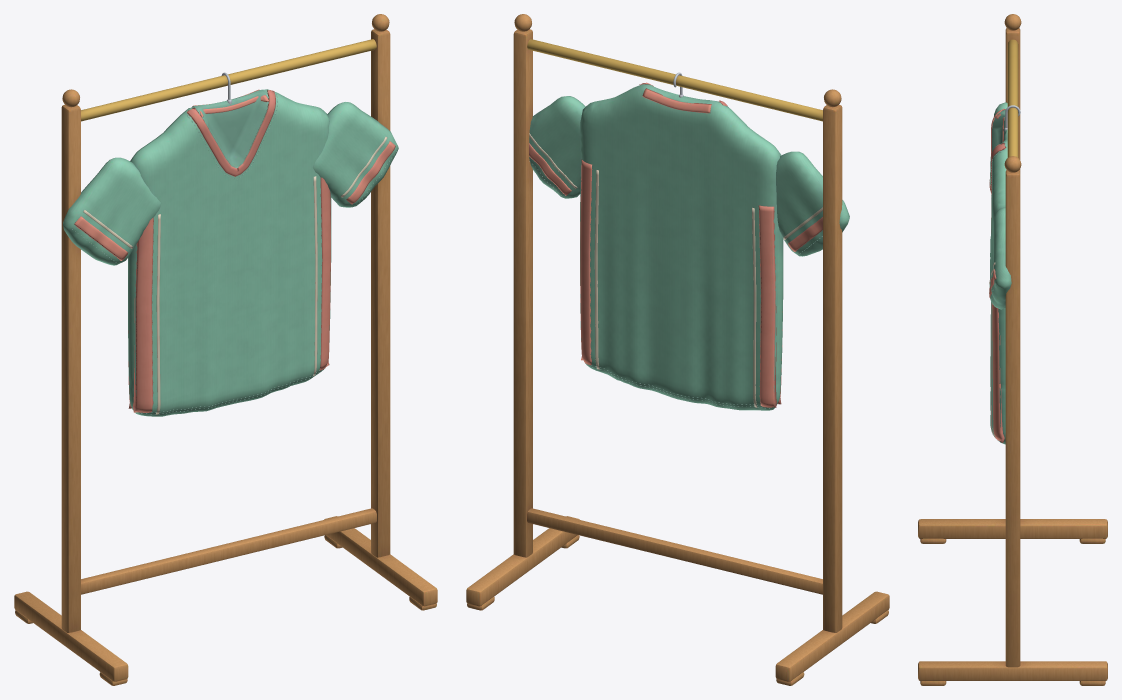
File: sports-jersey.glb
3 renders of one model, left to right at view 1: azimuth 30°, elevation 25°; view 2: azimuth 150°, elevation 25°; view 3: azimuth 270°, elevation 25°, orthographic. The views are drawn at different scales.
Parts seen in each view (by area): view 1: sports-jersey_body; view 2: sports-jersey_body; view 3: sports-jersey_body.
Boxes of the visible parts, left/top/right/bottom form: sports-jersey_body: left=14, top=14, right=437, bottom=685; sports-jersey_body: left=466, top=14, right=889, bottom=685; sports-jersey_body: left=918, top=14, right=1107, bottom=685.
Bounding box in the file's own units: 0.8434 × 1.35 × 0.44.
1 material, 1 textured.
